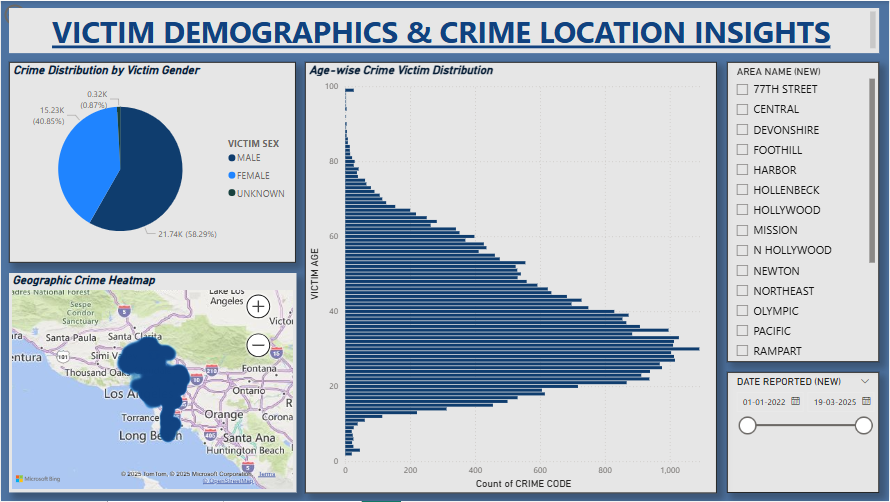

Layout of this report page (visuals, bound fields, positions):
{"tool":"powerbi","page":{"name":"VICTIM ANALYSIS","canvas":[1280,720],"ordinal":1},"visuals":[{"type":"pieChart","title":"Crime Distribution by Victim Gender","fields":{"Category":["Sheet1.VICTIM SEX"],"Y":["CountNonNull(Sheet1.CRIME CODE)"]},"box":[11.5,87.8,413.3,289.4],"z":0},{"type":"slicer","fields":{"Values":["Sheet1.DATE REPORTED (NEW)"]},"box":[1045.4,534.2,218.9,174.2],"z":1000},{"type":"slicer","fields":{"Values":["Sheet1.AREA NAME (NEW)"]},"box":[1045.4,87.8,218.9,432],"z":2000},{"type":"map","title":"Geographic Crime Heatmap","fields":{"Y":["Sheet1.LATITUDE (CRIME LOCATION)"],"X":["Sheet1.LONGITUDE (CRIME LOCATION)"]},"box":[10.8,392,413.7,316.2],"z":3000},{"type":"barChart","title":"Age-wise Crime Victim Distribution","fields":{"Y":["CountNonNull(Sheet1.CRIME CODE)"],"Category":["Sheet1.VICTIM AGE"]},"box":[437.8,87.8,593.3,620.6],"z":4000},{"type":"actionButton","box":[0,0,100,40],"z":5000},{"type":"textbox","box":[11.5,10.1,1252.8,64.8],"z":6000}]}

Visuals, with their boxes in screenshot pixels (x1, y1, x2, y2), scaled from the page's 1280x720 canvas onto the 890x502 screenshot:
"Crime Distribution by Victim Gender" pieChart: left=8, top=61, right=295, bottom=263
slicer - Sheet1.DATE REPORTED (NEW): left=727, top=372, right=879, bottom=494
slicer - Sheet1.AREA NAME (NEW): left=727, top=61, right=879, bottom=362
"Geographic Crime Heatmap" map: left=8, top=273, right=295, bottom=494
"Age-wise Crime Victim Distribution" barChart: left=304, top=61, right=717, bottom=494
actionButton: left=0, top=0, right=70, bottom=28
textbox: left=8, top=7, right=879, bottom=52
